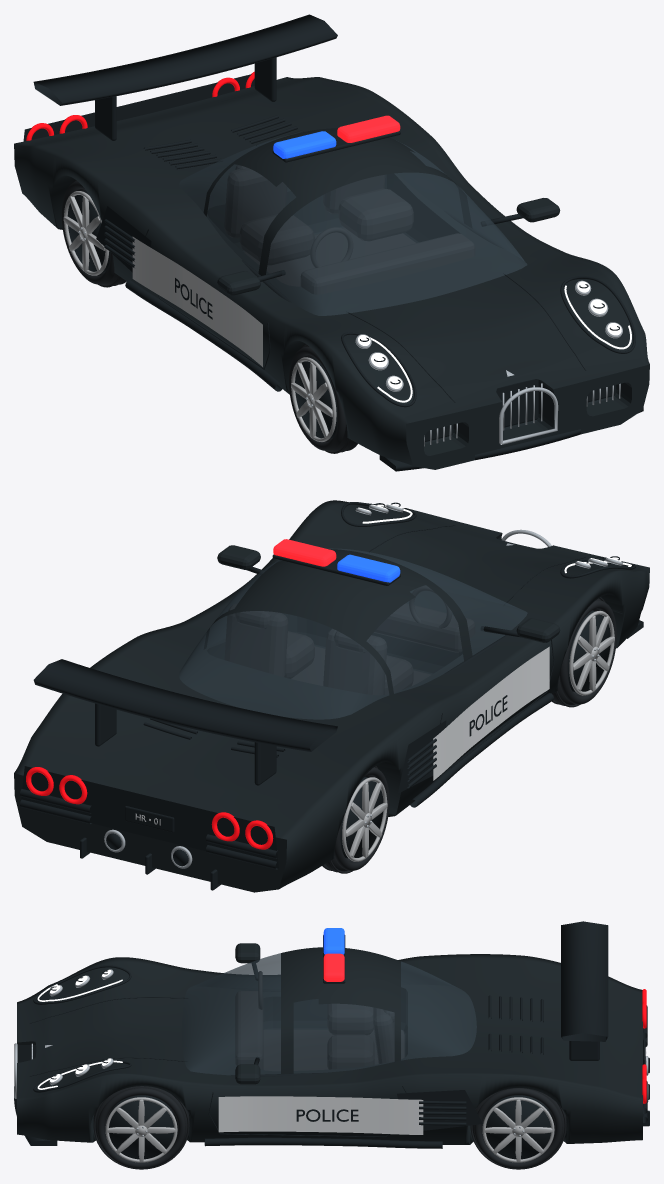
The model's file is interceptor.glb.
The picture shows the model from 3 angles, top to bottom: view 1: azimuth 30°, elevation 25°; view 2: azimuth 150°, elevation 25°; view 3: azimuth 270°, elevation 25°; orthographic projection. The views are drawn at different scales.
Parts seen in each view (by area): view 1: Body surfaces, WheelFrontR surfaces, WheelRearR surfaces; view 2: Body surfaces, WheelFrontR surfaces, WheelRearR surfaces; view 3: Body surfaces, WheelFrontL surfaces, WheelRearL surfaces.
Boxes of the visible parts, bbox=[...] form: Body surfaces: bbox=[14, 14, 649, 471]; WheelFrontR surfaces: bbox=[289, 343, 357, 453]; WheelRearR surfaces: bbox=[61, 179, 126, 287]; Body surfaces: bbox=[14, 500, 649, 892]; WheelFrontR surfaces: bbox=[552, 597, 616, 707]; WheelRearR surfaces: bbox=[322, 766, 389, 873]; Body surfaces: bbox=[14, 921, 649, 1148]; WheelFrontL surfaces: bbox=[93, 1086, 189, 1169]; WheelRearL surfaces: bbox=[470, 1088, 566, 1169].
Size of the model in its own units: 2.29 by 1.32 by 4.57.
